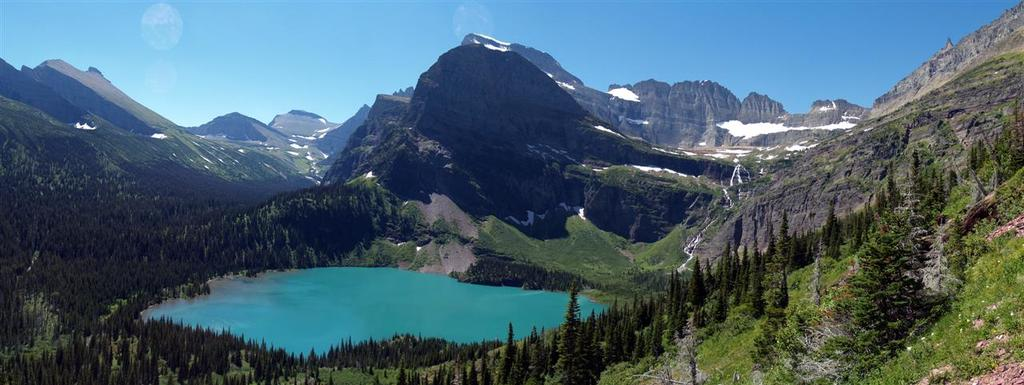Tree: (0, 124, 1024, 385)
